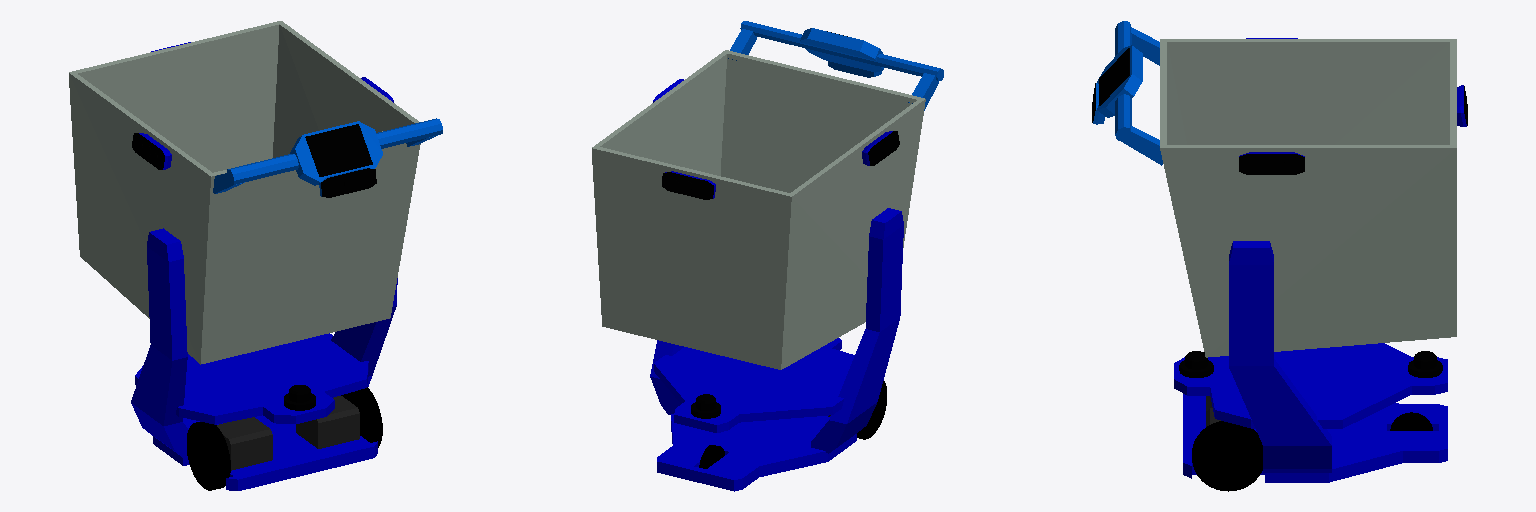
URDF robot description (automatic_cart):
<?xml version="1.0"?>
<robot name="automatic_cart">

  <!-- Robot Body -->
  <material name="black">
    <color rgba="0 0 0 1"/>
  </material>
  
  <link name="base_link">
    <visual>
      <geometry>
        <mesh filename="package://automatic_cart/models/shopping_cart/meshes/shopping_cart_base.dae"/>
      </geometry>
      <origin xyz="0.0 0.0 0.2"/>
    </visual>
    <collision>
      <geometry>
        <mesh filename="package://automatic_cart/models/shopping_cart/meshes/shopping_cart_base.dae"/>
      </geometry>
      <origin xyz="0.0 0.0 0.2"/>
    </collision>
    <inertial>
      <mass value="30"/>
      <inertia ixx="1.0" ixy="0.0" ixz="0.0" iyy="1.0" iyz="0.0" izz="1.0"/>
    </inertial>
  </link>
  
  <link name="basket">
    <visual>
      <geometry>
        <mesh filename="package://automatic_cart/models/shopping_cart/meshes/shopping_cart_basket.dae"/>
      </geometry>
      <origin xyz="0.0 0.0 -0.2"/>
    </visual>
    <collision>
      <geometry>
        <mesh filename="package://automatic_cart/models/shopping_cart/meshes/shopping_cart_basket.dae"/>
      </geometry>
      <origin xyz="0.0 0.0 -0.2"/>
    </collision>
    <inertial>
      <mass value="10"/>
      <inertia ixx="1.0" ixy="0.0" ixz="0.0" iyy="1.0" iyz="0.0" izz="1.0"/>
    </inertial>
  </link>
  
  <joint name="base_to_basket" type="prismatic">
    <axis xyz="0 0 1"/>
    <limit effort="1000.0" lower="-0.07" upper="0.07" velocity="0.5"/>
    <parent link="base_link"/>
    <child link="basket"/>
    <origin xyz="0.0 0.0 0.4"/>
  </joint>
  
  
  <!-- Wheels -->
  <link name="right_wheel">
    <visual>
      <origin rpy="0 1.57075 0" xyz="0 0 0"/>
      <geometry>
        <cylinder length="0.025" radius="0.08"/>
      </geometry>
      <material name="black"/>
    </visual>
    <collision>
      <origin rpy="0 1.57075 0" xyz="0 0 0"/>
      <geometry>
        <cylinder length="0.025" radius="0.08"/>
      </geometry>
    </collision>
    <inertial>
      <mass value="2"/>
      <inertia ixx="0.0" ixy="0.0" ixz="0.0" iyy="1.0" iyz="0.0" izz="1.0"/>
    </inertial>
  </link>
  <joint name="right_wheel_joint" type="continuous">
    <axis rpy="0 0 0" xyz="1 0 0"/>
    <parent link="base_link"/>
    <child link="right_wheel"/>
    <origin rpy="0 0 0" xyz="0.2 -0.2 -0.11"/>
  </joint>
  
  <link name="left_wheel">
    <visual>
      <origin rpy="0 1.57075 0" xyz="0 0 0"/>
      <geometry>
        <cylinder length="0.025" radius="0.08"/>
      </geometry>
      <material name="black"/>
    </visual>
    <collision>
      <origin rpy="0 1.57075 0" xyz="0 0 0"/>
      <geometry>
        <cylinder length="0.025" radius="0.08"/>
      </geometry>
    </collision>
    <inertial>
      <mass value="2"/>
      <inertia ixx="0.0" ixy="0.0" ixz="0.0" iyy="1.0" iyz="0.0" izz="1.0"/>
    </inertial>
  </link>
  <joint name="left_wheel_joint" type="continuous">
    <axis rpy="0 0 0" xyz="1 0 0"/>
    <parent link="base_link"/>
    <child link="left_wheel"/>
    <origin rpy="0 0 0" xyz="-0.2 -0.2 -0.11"/>
  </joint>
  
  <link name="front_wheel">
    <visual>
      <origin rpy="0 1.57075 0" xyz="0 0 0"/>
      <geometry>
        <cylinder length="0.02" radius="0.047"/>
      </geometry>
      <material name="black"/>
    </visual>
    <collision>
      <origin rpy="0 1.57075 0" xyz="0 0 0"/>
      <geometry>
        <cylinder length="0.02" radius="0.047"/>
      </geometry>
    </collision>
    <inertial>
      <mass value="1"/>
      <inertia ixx="0.0" ixy="0.0" ixz="0.0" iyy="1.0" iyz="0.0" izz="1.0"/>
    </inertial>
  </link>
  <joint name="front_wheel_joint" type="continuous">
    <axis rpy="0 0 0" xyz="1 0 0"/>
    <parent link="base_link"/>
    <child link="front_wheel"/>
    <origin rpy="0 0 0" xyz="0 0.2 -0.15"/>
  </joint>
  
  <!-- Gazebo plugin for ROS Control -->
  <gazebo>
    <plugin name="gazebo_ros_control" filename="libgazebo_ros_control.so">
      <robotNamespace>/</robotNamespace>
    </plugin>
  </gazebo>

</robot>

--- Render facts (derived) ---
Views: 3 orthographic renders of the robot side by side, from view 1: azimuth 30°, elevation 25°; view 2: azimuth 150°, elevation 25°; view 3: azimuth 270°, elevation 25°.
Robot: automatic_cart — 5 links, 4 joints (3 continuous, 1 prismatic); root link base_link; default pose: all joints at 0.
Visible links, largest first — view 1: basket, base_link, left_wheel, right_wheel; view 2: basket, base_link, left_wheel; view 3: basket, base_link, right_wheel, front_wheel.
Link boxes in pixels (x1=…): basket: x1=69, y1=21, x2=442, y2=364; base_link: x1=131, y1=228, x2=397, y2=490; left_wheel: x1=187, y1=422, x2=230, y2=490; right_wheel: x1=341, y1=387, x2=382, y2=447; basket: x1=592, y1=21, x2=943, y2=369; base_link: x1=650, y1=208, x2=903, y2=491; left_wheel: x1=857, y1=381, x2=886, y2=439; basket: x1=1092, y1=21, x2=1467, y2=357; base_link: x1=1174, y1=241, x2=1447, y2=482; right_wheel: x1=1192, y1=421, x2=1262, y2=491; front_wheel: x1=1390, y1=412, x2=1432, y2=430.
Bounding box of the posed robot: 0.6156 × 0.8196 × 0.9492 m (x, y, z).
2 mesh visuals loaded from 2 distinct referenced files (2 Collada DAE).